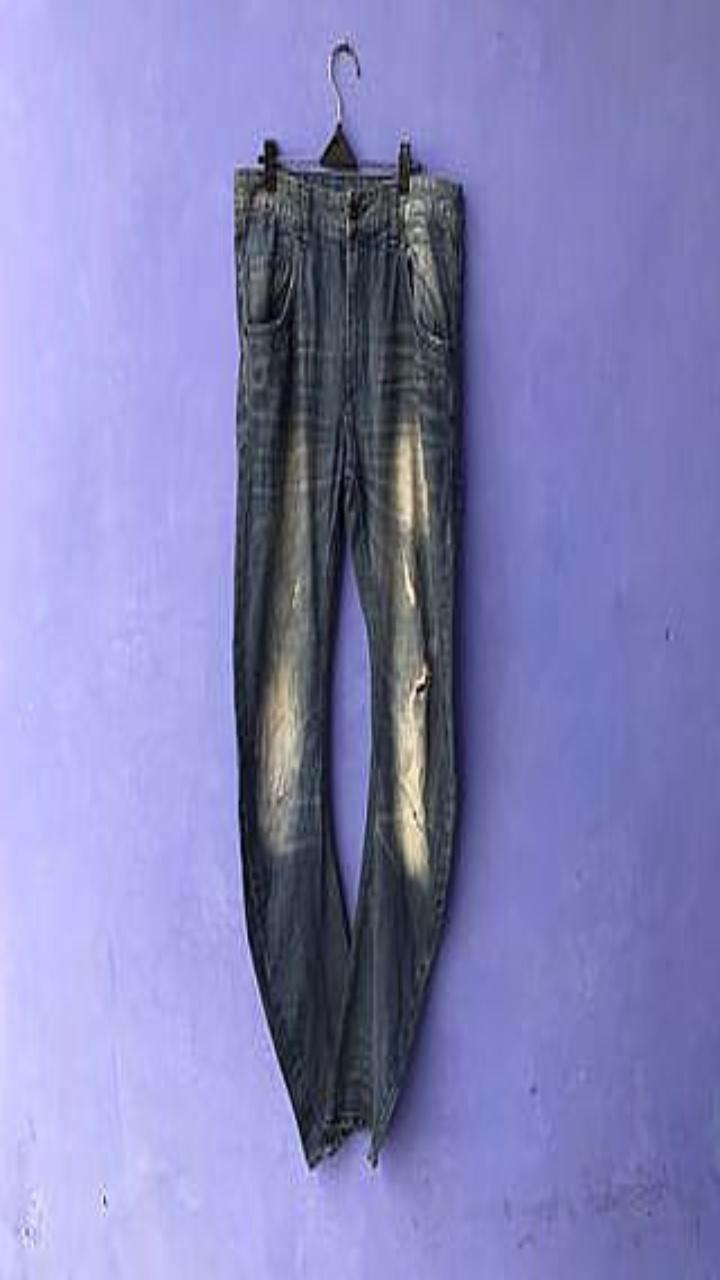Jeans: (233, 168, 463, 1167)
